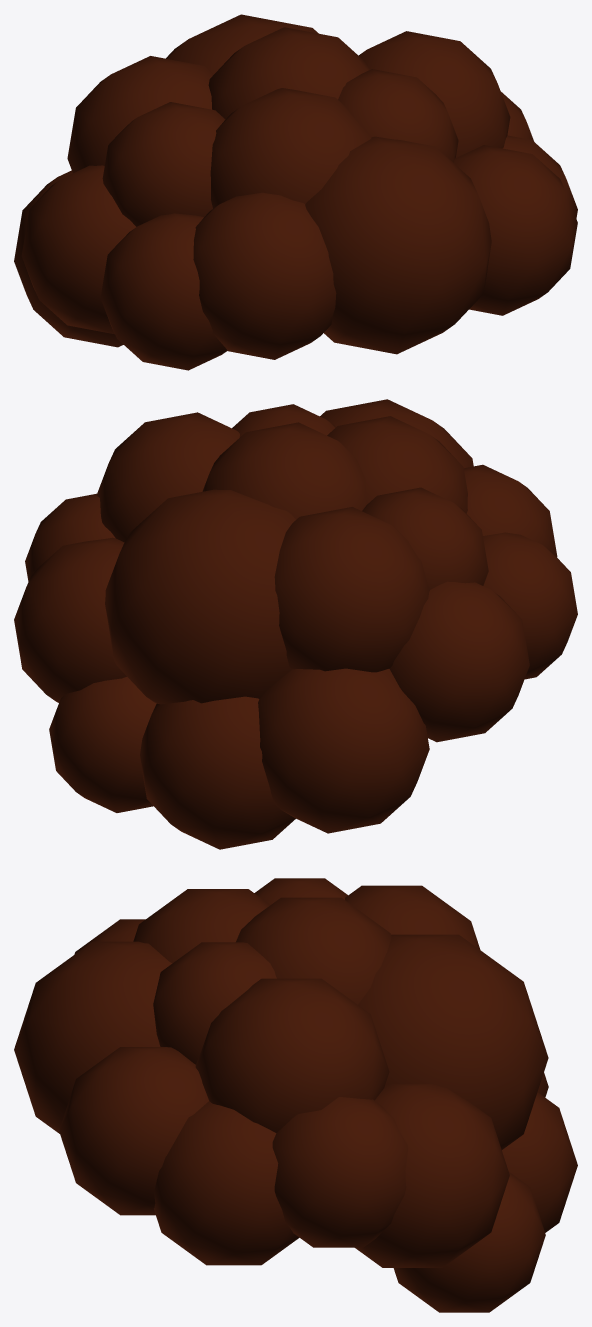
The model's file is hair.fbx.
3 views of the same model, one above another, from view 1: azimuth 30°, elevation 25°; view 2: azimuth 150°, elevation 25°; view 3: azimuth 270°, elevation 25° (orthographic). The views are drawn at different scales.
Visible parts, largest first — view 1: Icosphere; view 2: Icosphere; view 3: Icosphere.
Part boxes in pixels (x1,y1,x2,y2): Icosphere: (14,14,577,370); Icosphere: (14,399,577,849); Icosphere: (14,878,577,1312).
Bounding box in the file's own units: 161 × 111 × 157.
